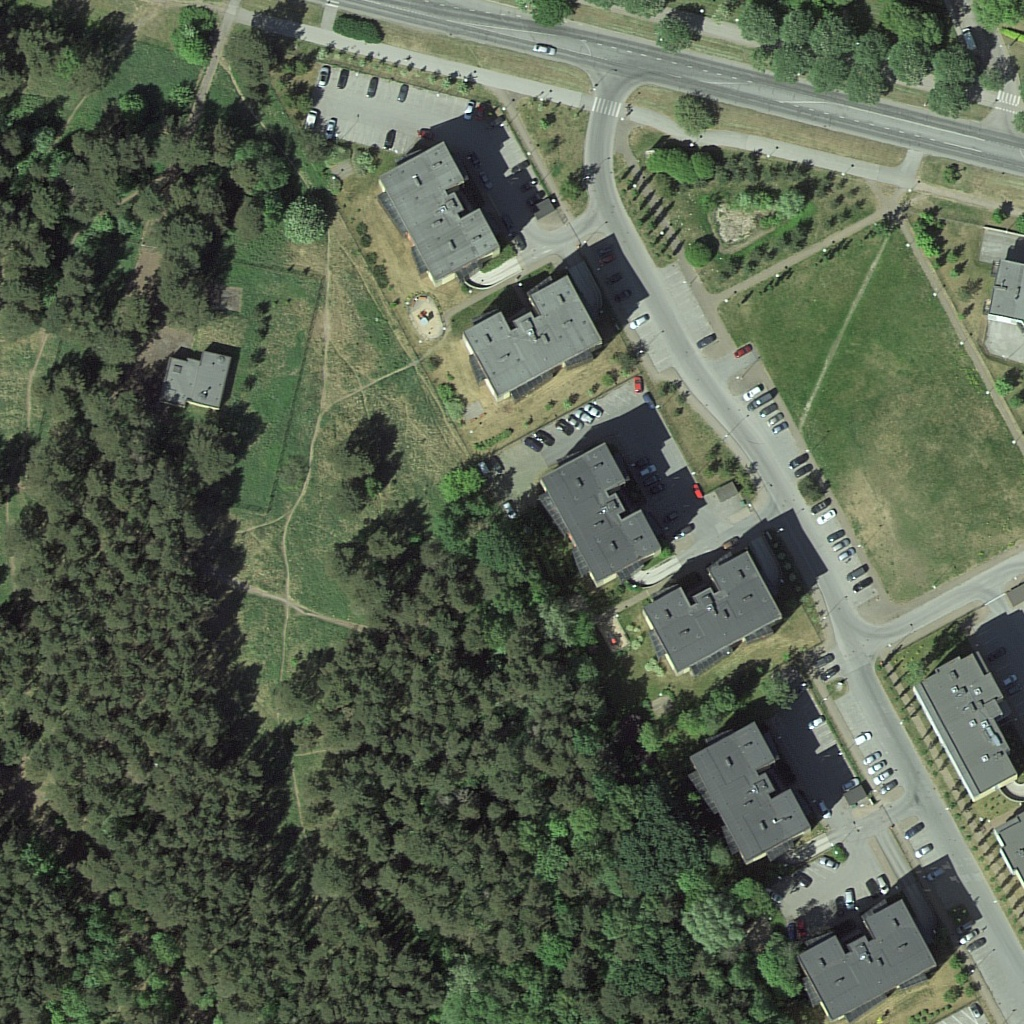building: (692, 717, 817, 865), (534, 442, 661, 585), (375, 140, 503, 281), (466, 272, 605, 401), (645, 552, 785, 675), (908, 658, 1013, 805), (793, 909, 923, 1020), (162, 347, 241, 413)
